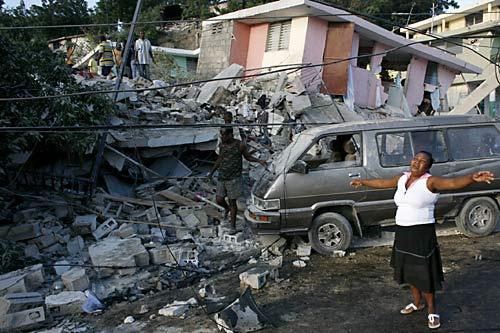victim: (348, 151, 498, 330), (206, 126, 271, 233), (130, 29, 160, 80), (94, 36, 118, 78)
